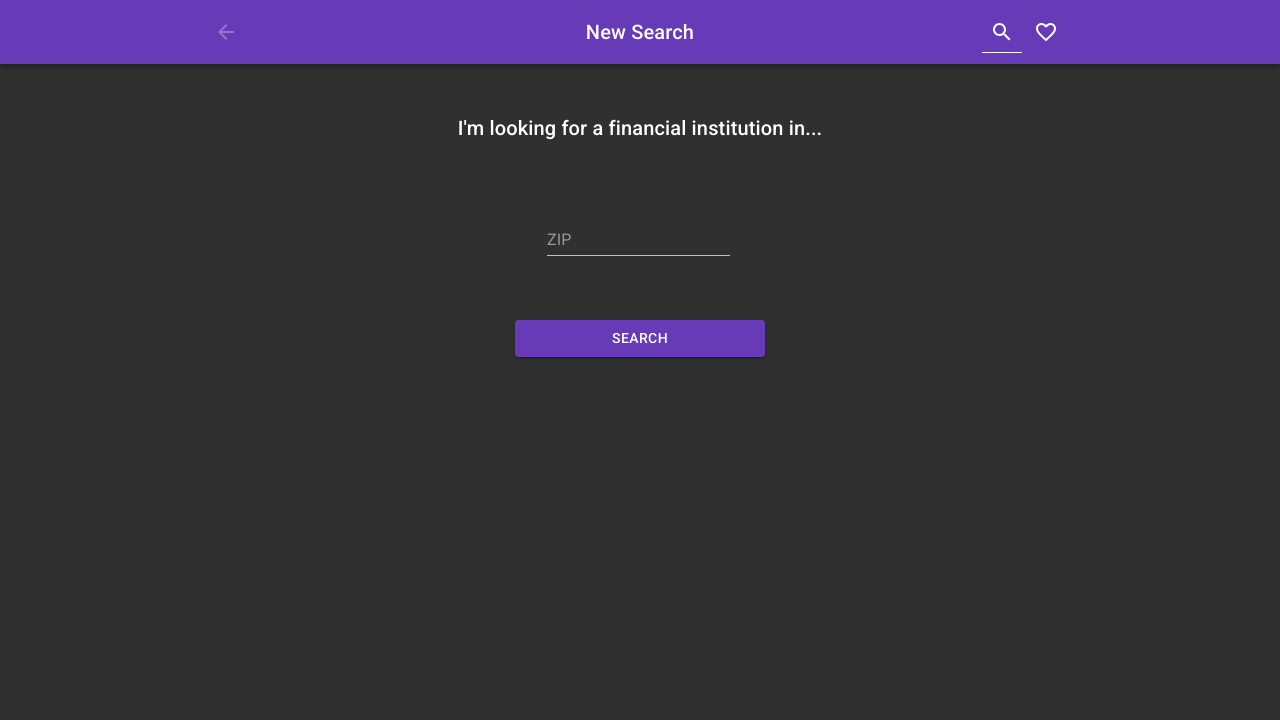
Test: Favorites Page › favs › Clears all favorites
Step 1. Type "90210" into the field with placeholder "ZIP" → {"x": 638, "y": 240}, box [547, 224, 730, 256]
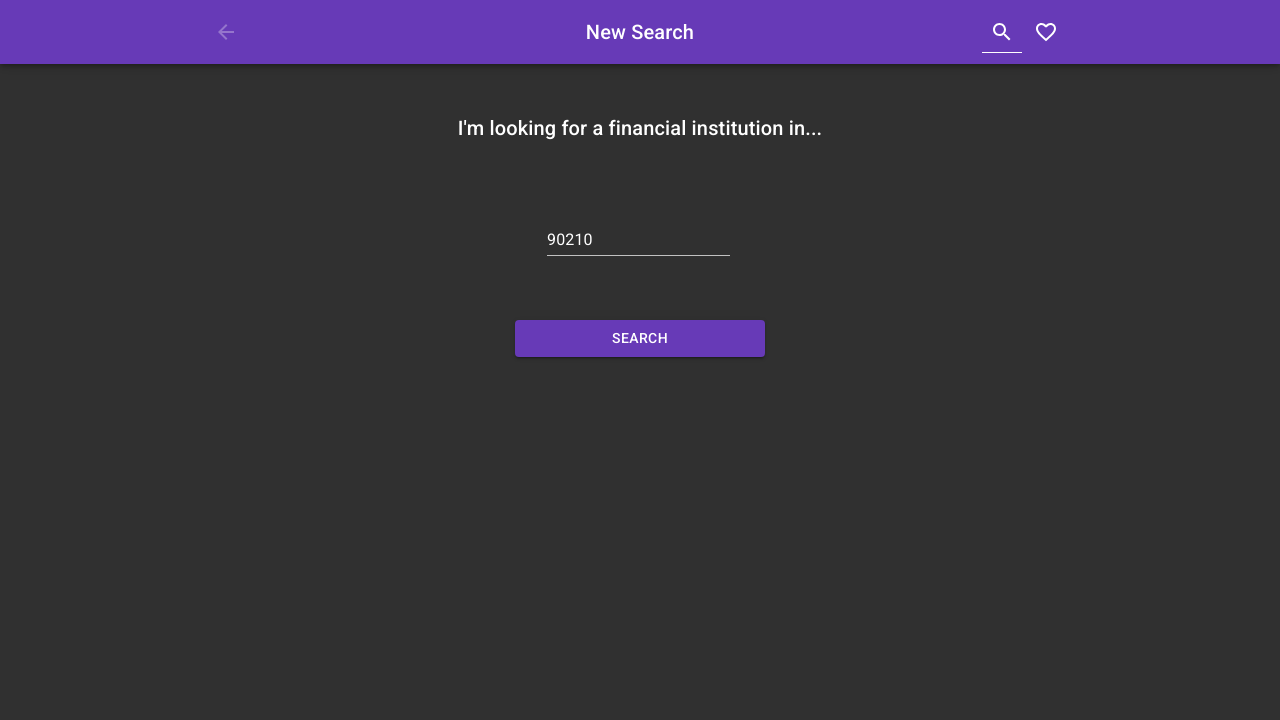
Step 2. Click the button "Search" → {"x": 640, "y": 338}, box [515, 320, 765, 356]
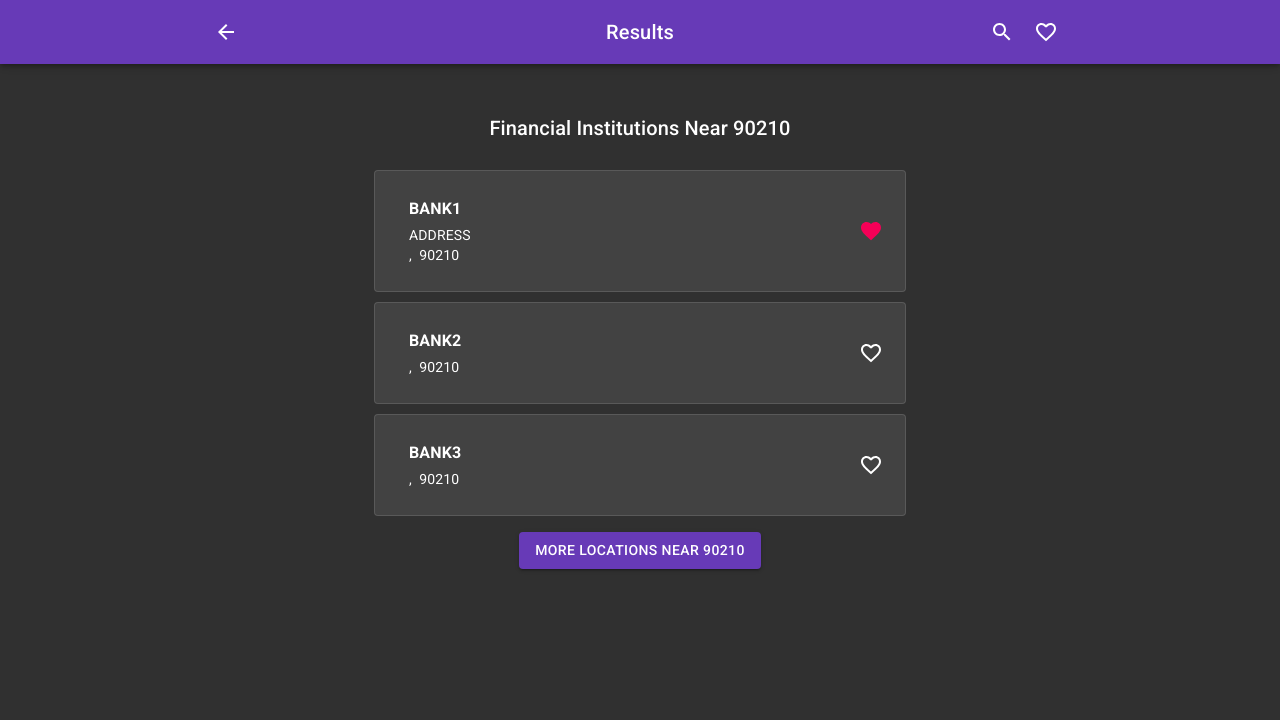
Step 3. Click the button named "Add BANK2 to favorites" → {"x": 871, "y": 353}, box [847, 313, 895, 393]
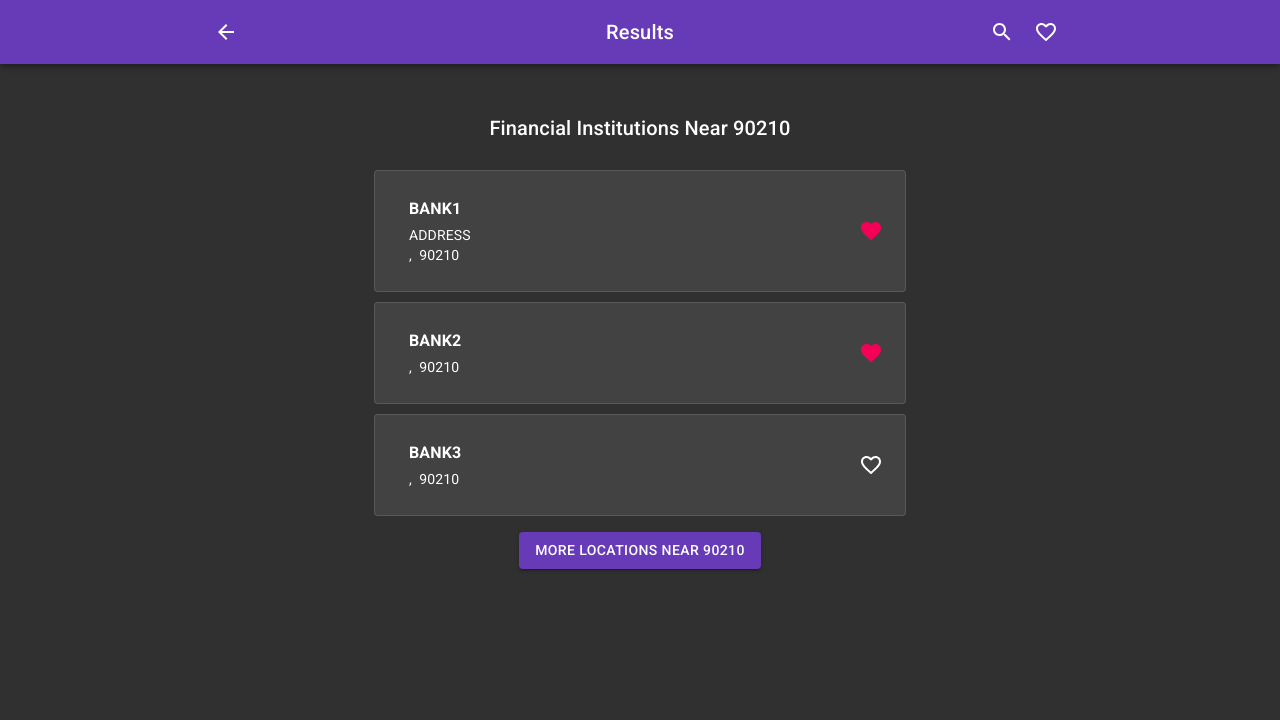
Step 4. Click the button named "Add BANK3 to favorites" → {"x": 871, "y": 465}, box [847, 425, 895, 505]
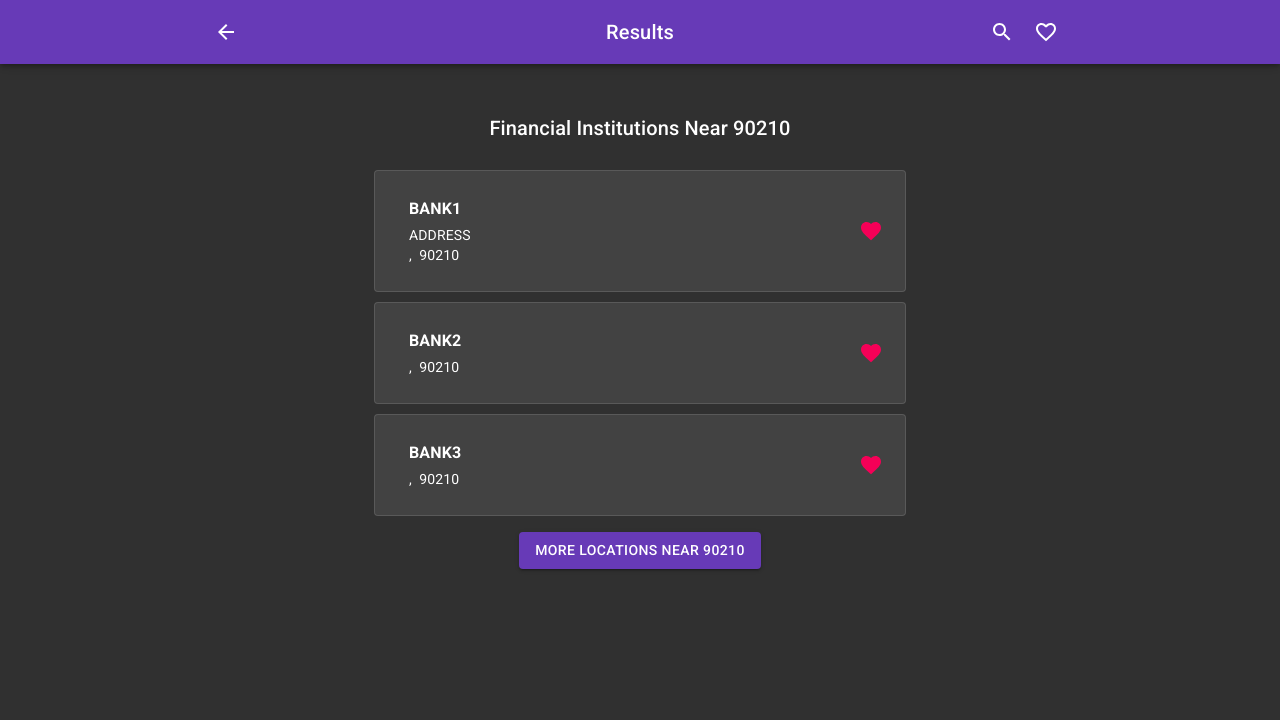
Step 5. Click the button named "go to my favorites page" → {"x": 1046, "y": 32}, box [1026, 12, 1066, 52]
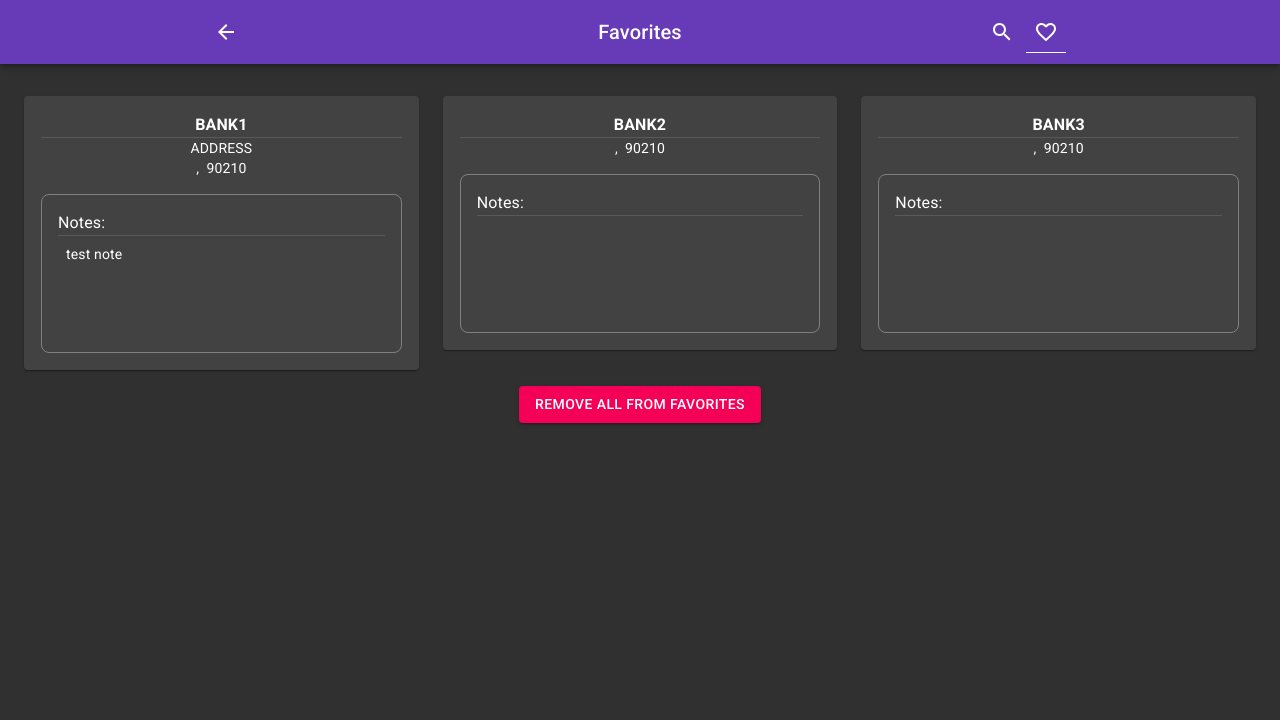
Step 6. Click the button "Remove all from favorites" → {"x": 640, "y": 404}, box [519, 386, 761, 422]
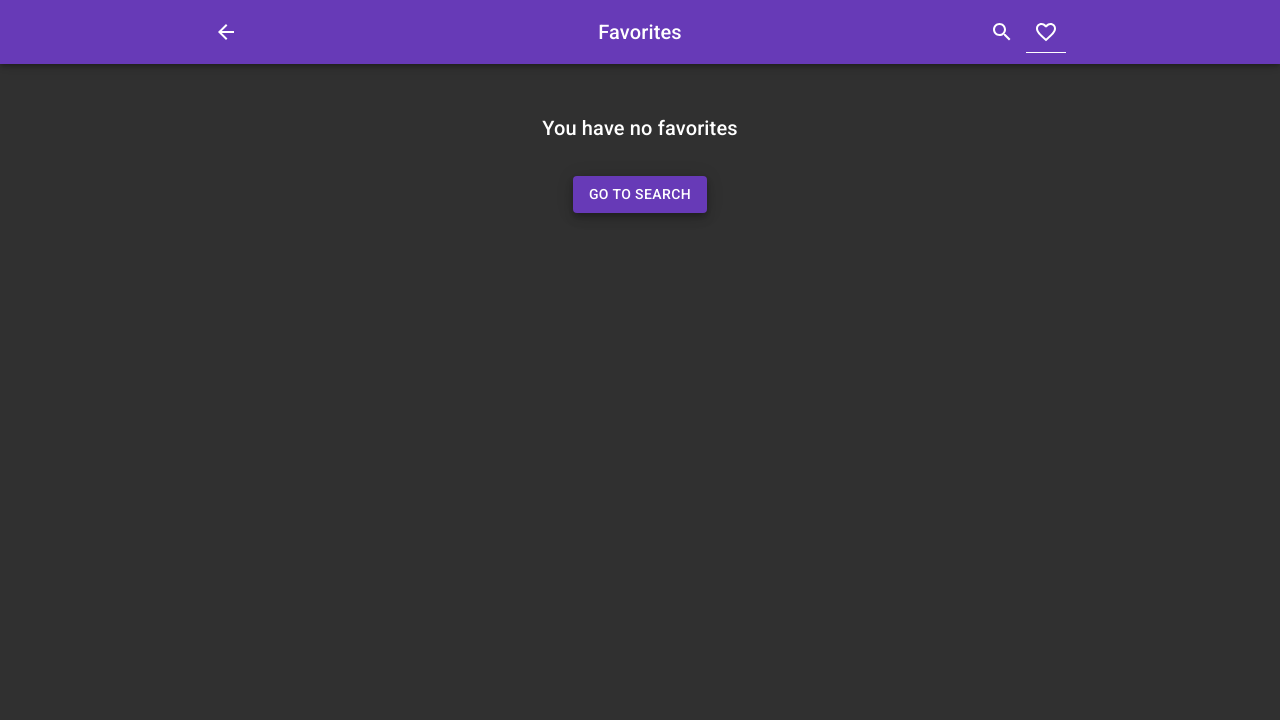
Expected: the heading "You have no favorites" is shown, [542, 116, 738, 140]
